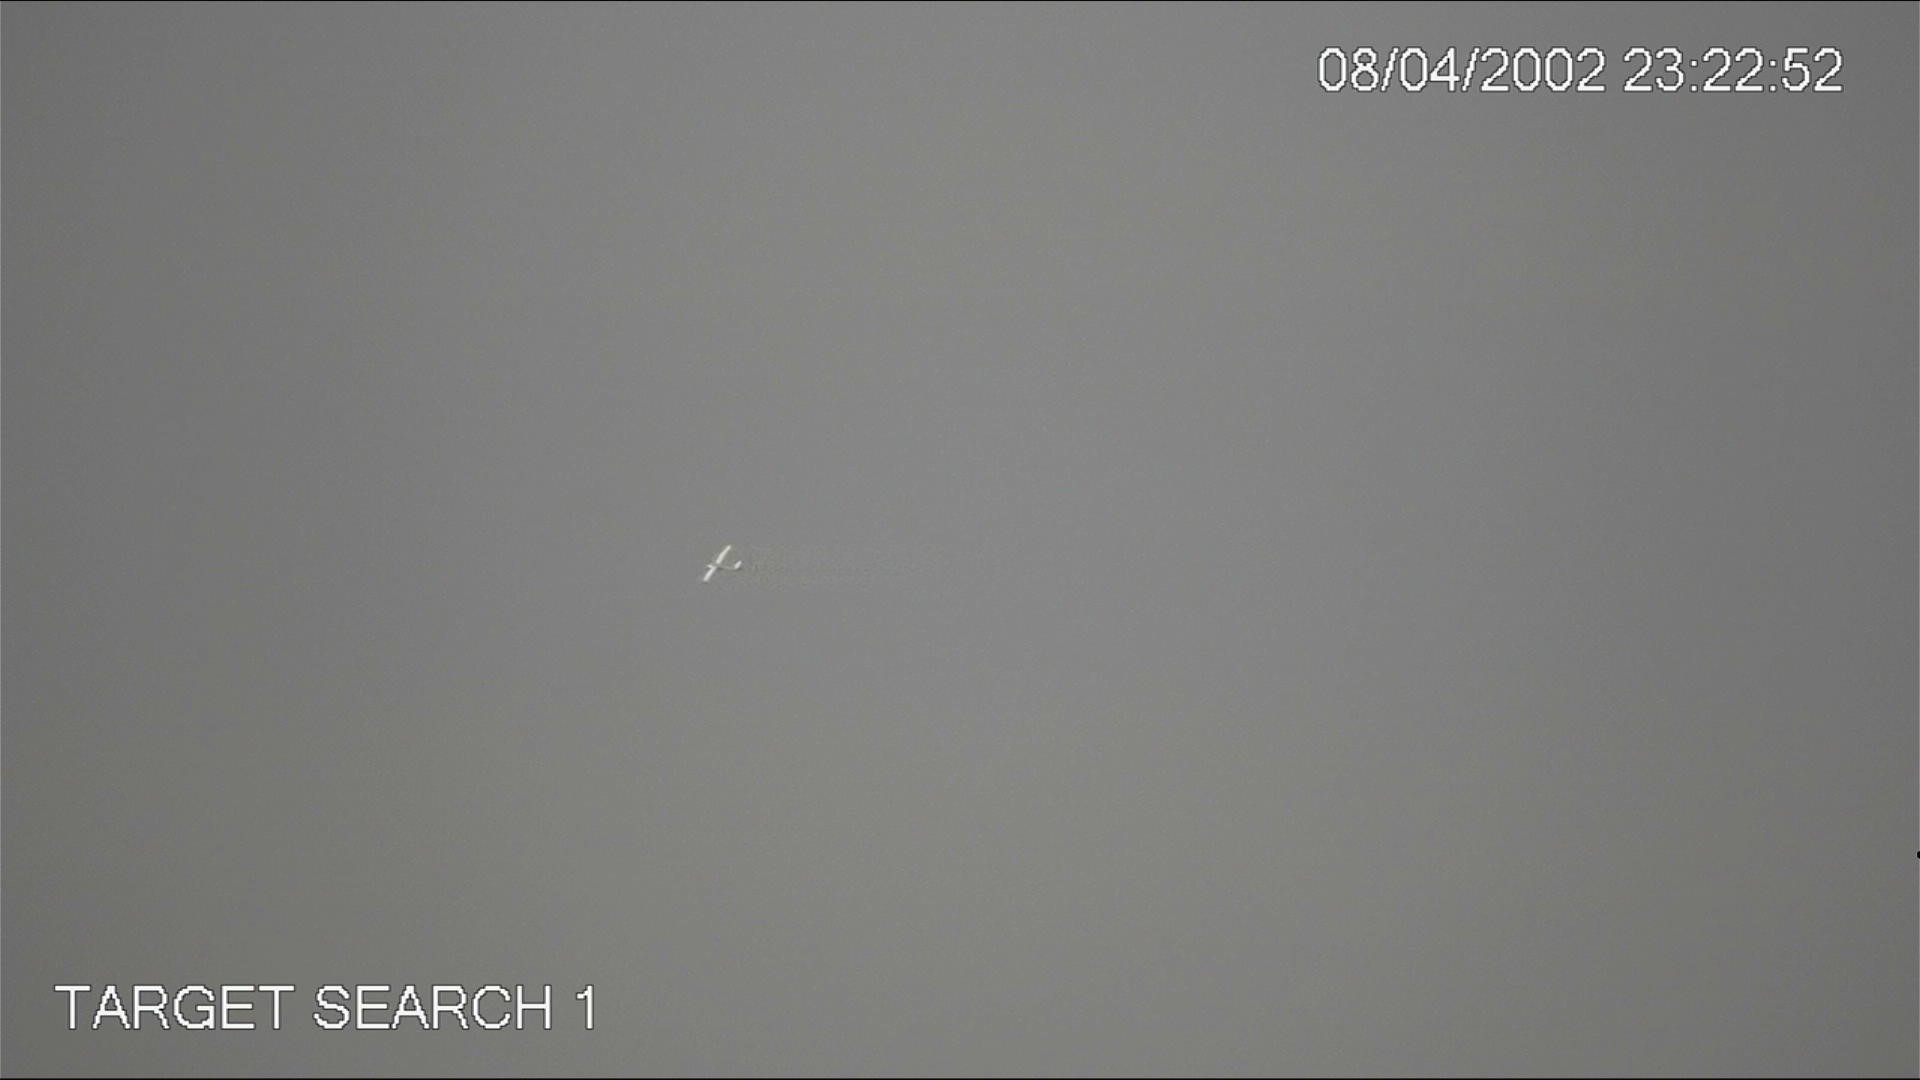SU_30: (698, 541, 746, 585)
